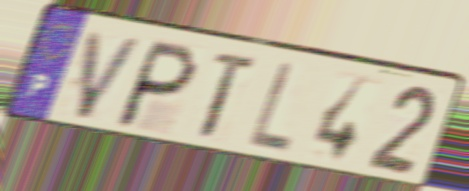2: (365, 83, 437, 179)
4: (310, 73, 371, 165)
L: (244, 59, 296, 158)
P: (110, 37, 202, 132)
T: (197, 48, 262, 143)
V: (72, 28, 147, 123)
